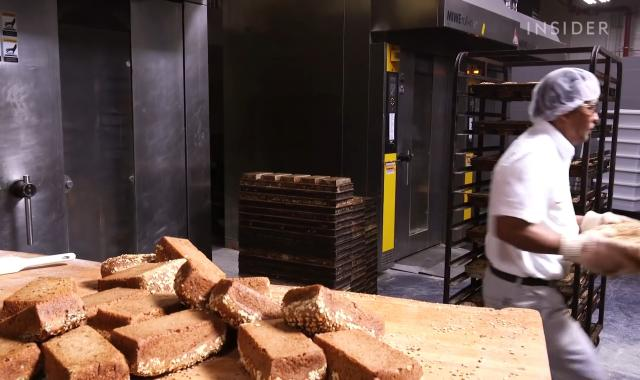hairnet: (530, 68, 606, 119)
